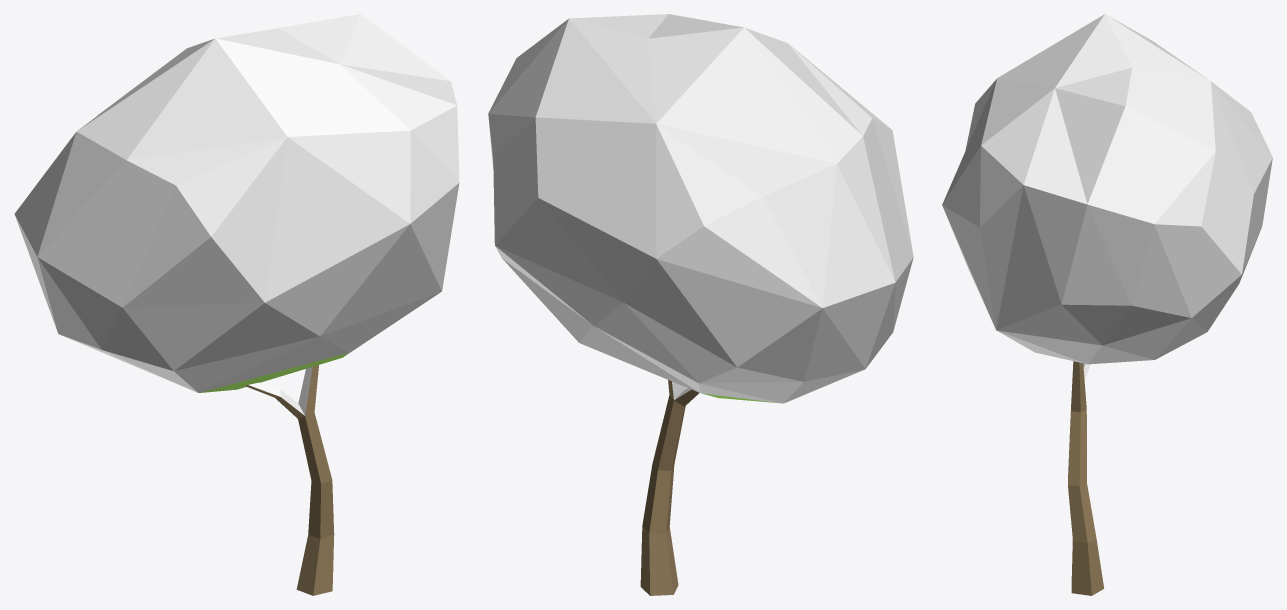
The model's file is Apple_Tree_m_Snow_BT_01.fbx.
The picture shows the model from 3 angles, left to right: view 1: azimuth 30°, elevation 25°; view 2: azimuth 150°, elevation 25°; view 3: azimuth 270°, elevation 25°; orthographic projection. The views are drawn at different scales.
Parts seen in each view (by area): view 1: Apple_Tree_m_Snow_BT_01; view 2: Apple_Tree_m_Snow_BT_01; view 3: Apple_Tree_m_Snow_BT_01.
Boxes of the visible parts, left/top/right/bottom form: Apple_Tree_m_Snow_BT_01: left=14, top=14, right=459, bottom=595; Apple_Tree_m_Snow_BT_01: left=488, top=14, right=913, bottom=595; Apple_Tree_m_Snow_BT_01: left=942, top=14, right=1272, bottom=595.
Bounding box in the file's own units: 539 × 749 × 421.
